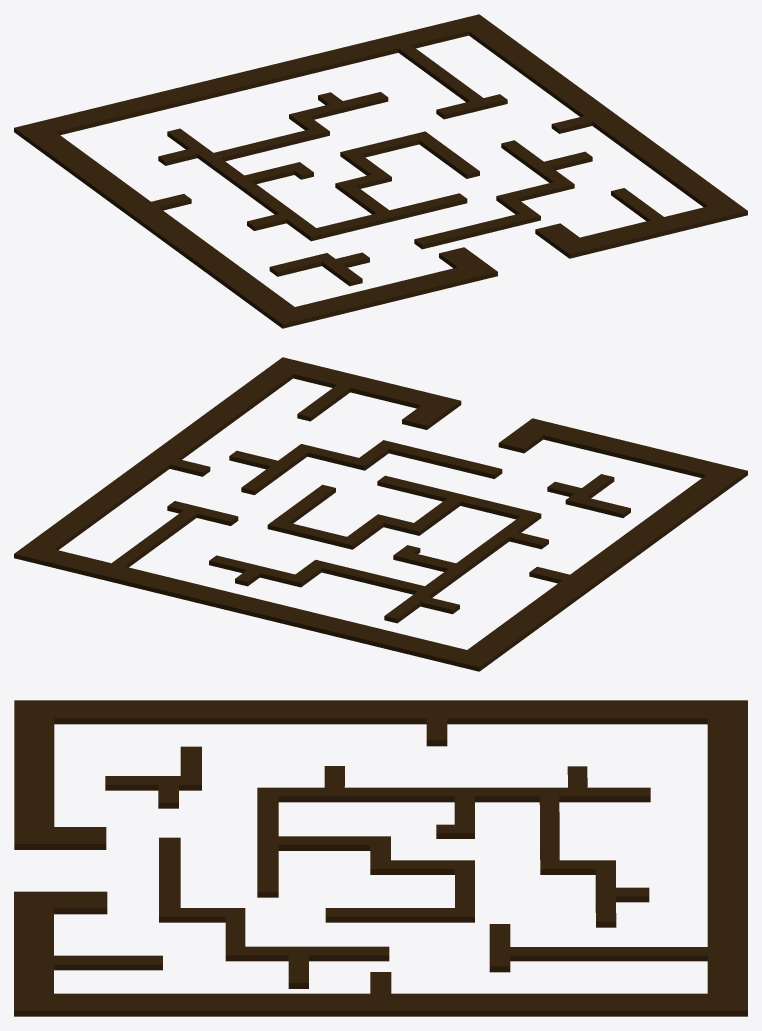
The model's file is Atap Rumah Dalam.fbx.
3 renders of one model, top to bottom at view 1: azimuth 30°, elevation 25°; view 2: azimuth 150°, elevation 25°; view 3: azimuth 270°, elevation 25°, orthographic. The views are drawn at different scales.
Visible parts, largest first — view 1: atap rmh dalam; view 2: atap rmh dalam; view 3: atap rmh dalam.
Part boxes in pixels (x1,y1,x2,y2): atap rmh dalam: (14, 14, 747, 328); atap rmh dalam: (14, 357, 747, 671); atap rmh dalam: (14, 700, 747, 1016).
Size of the model in its own units: 5928 by 131 by 5928.
